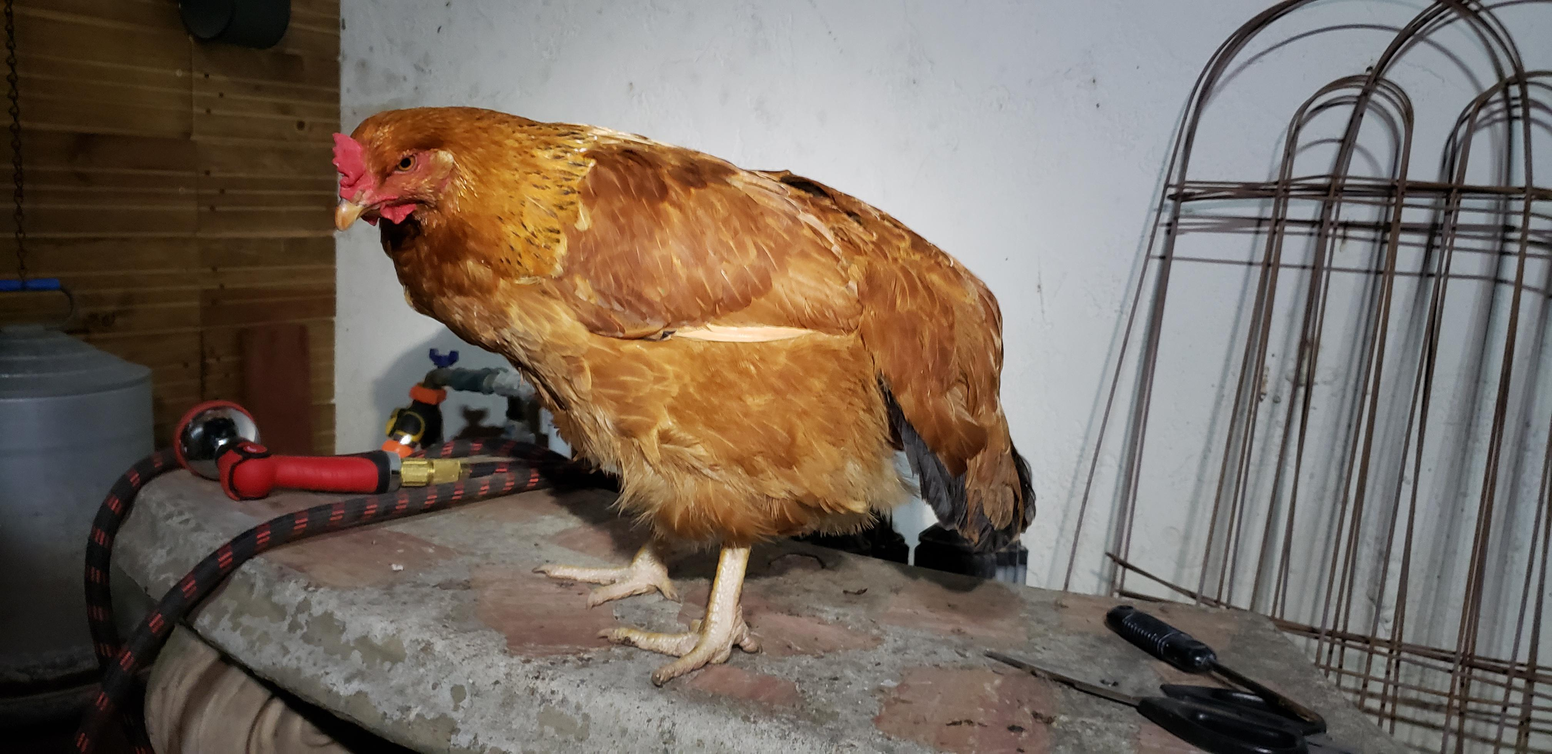AbNormal: (312, 94, 1055, 689)
